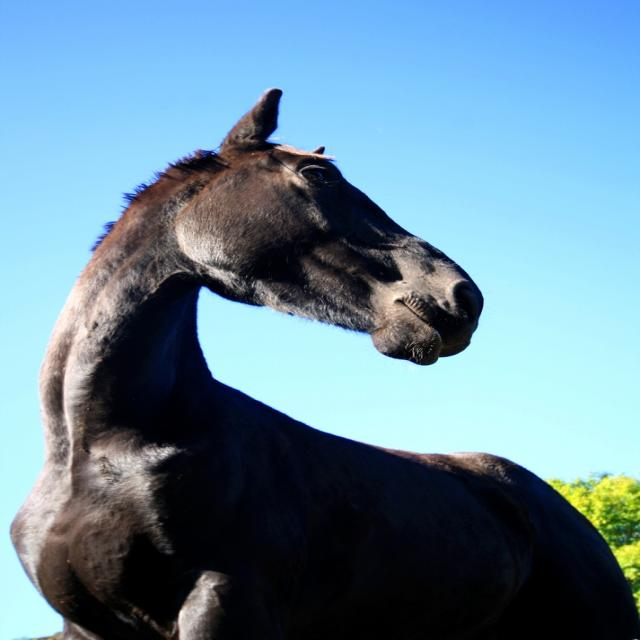Horse: (4, 90, 639, 640)
